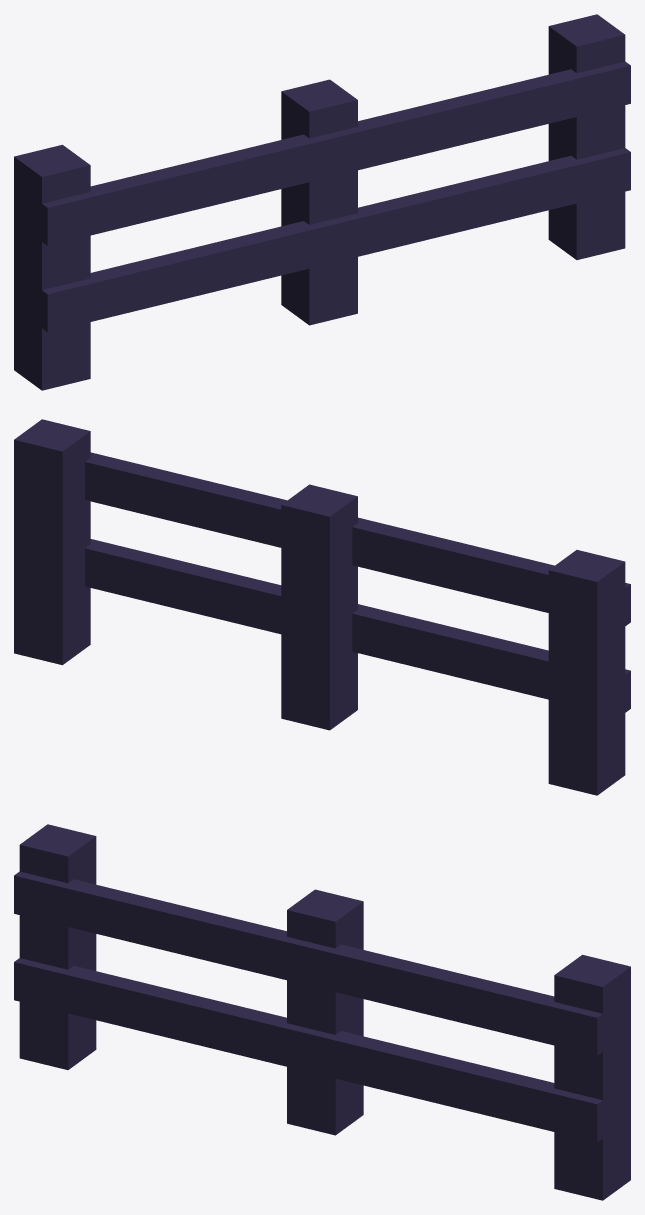
Rendered from fence.glb.
3 views of the same model, one above another, from view 1: azimuth 30°, elevation 25°; view 2: azimuth 150°, elevation 25°; view 3: azimuth 330°, elevation 25° (orthographic).
Visible parts, largest first — view 1: Rail1, Rail2, Post1, Post3, Post2; view 2: Rail1, Rail2, Post1, Post2, Post3; view 3: Rail1, Rail2, Post3, Post1, Post2.
Part boxes in pixels (bbox=[...]): Rail1: bbox=[36, 61, 630, 245]; Rail2: bbox=[36, 148, 630, 332]; Post1: bbox=[14, 144, 90, 390]; Post3: bbox=[548, 14, 625, 259]; Post2: bbox=[281, 79, 357, 325]; Rail1: bbox=[85, 452, 630, 629]; Rail2: bbox=[85, 539, 630, 716]; Post1: bbox=[548, 550, 625, 795]; Post2: bbox=[281, 484, 357, 730]; Post3: bbox=[14, 419, 90, 665]; Rail1: bbox=[14, 871, 602, 1055]; Rail2: bbox=[14, 958, 602, 1142]; Post3: bbox=[554, 954, 630, 1200]; Post1: bbox=[19, 824, 96, 1069]; Post2: bbox=[287, 889, 363, 1135].
Bounding box in the file's own units: 2.4 × 0.84 × 0.24.
